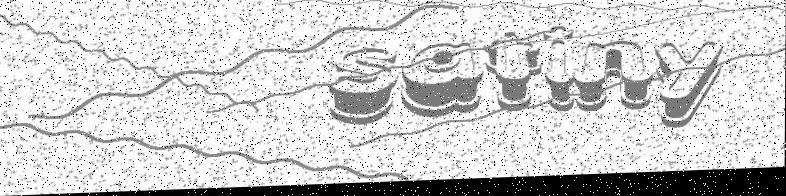a: (399, 42, 485, 124)
i: (540, 27, 576, 115)
n: (573, 40, 654, 117)
s: (326, 44, 399, 128)
t: (483, 33, 543, 118)
y: (652, 41, 726, 136)
